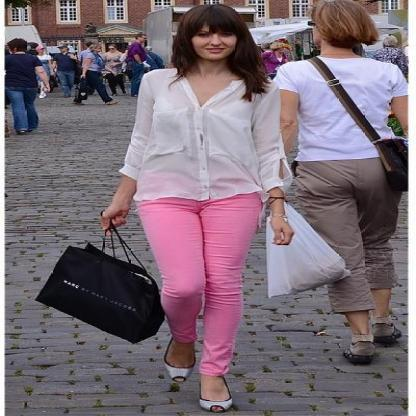bag: (37, 242, 164, 343)
pants: (134, 193, 264, 375)
shirt: (119, 68, 291, 200)
shoe: (165, 364, 232, 408)
